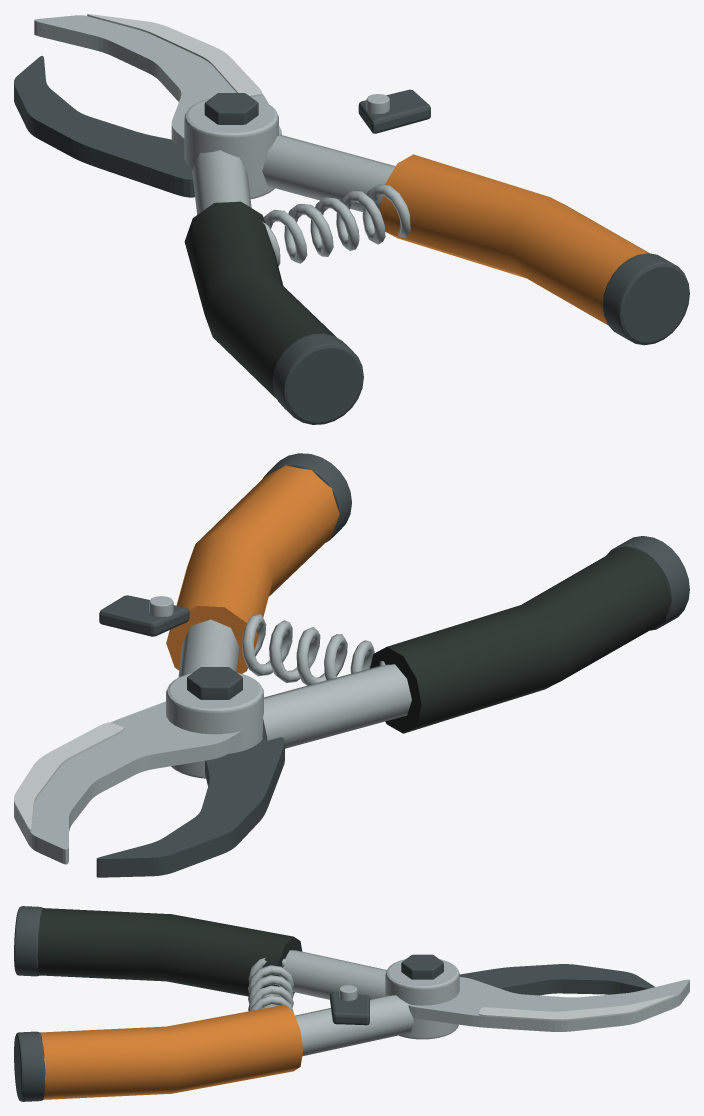
Rendered from city-bypass-pruning-shears.glb.
3 views of the same model, one above another, from view 1: azimuth 30°, elevation 25°; view 2: azimuth 150°, elevation 25°; view 3: azimuth 270°, elevation 25° (orthographic). The views are drawn at different scales.
Parts seen in each view (by area): view 1: Assembly | Satin tool steel, Assembly | Dark coated steel, Assembly | Warm orange grip accent, Assembly | Dark matte grip, Assembly | Bright exposed edge; view 2: Assembly | Satin tool steel, Assembly | Dark matte grip, Assembly | Dark coated steel, Assembly | Warm orange grip accent, Assembly | Bright exposed edge; view 3: Assembly | Satin tool steel, Assembly | Warm orange grip accent, Assembly | Dark matte grip, Assembly | Dark coated steel, Assembly | Bright exposed edge.
Part boxes in pixels (bbox=[...]): Assembly | Satin tool steel: bbox=[34, 15, 410, 266]; Assembly | Dark coated steel: bbox=[14, 55, 689, 424]; Assembly | Warm orange grip accent: bbox=[379, 154, 649, 325]; Assembly | Dark matte grip: bbox=[184, 201, 336, 398]; Assembly | Bright exposed edge: bbox=[87, 14, 261, 97]; Assembly | Satin tool steel: bbox=[14, 596, 411, 864]; Assembly | Dark matte grip: bbox=[370, 546, 671, 733]; Assembly | Dark coated steel: bbox=[96, 453, 689, 877]; Assembly | Warm orange grip accent: bbox=[166, 465, 339, 673]; Assembly | Bright exposed edge: bbox=[14, 722, 124, 831]; Assembly | Satin tool steel: bbox=[248, 950, 689, 1056]; Assembly | Warm orange grip accent: bbox=[40, 1004, 302, 1099]; Assembly | Dark matte grip: bbox=[37, 908, 302, 996]; Assembly | Dark coated steel: bbox=[14, 906, 654, 1101]; Assembly | Bright exposed edge: bbox=[478, 995, 675, 1020].
Bounding box in the file's own units: 0.1191 × 0.0303 × 0.2186.
